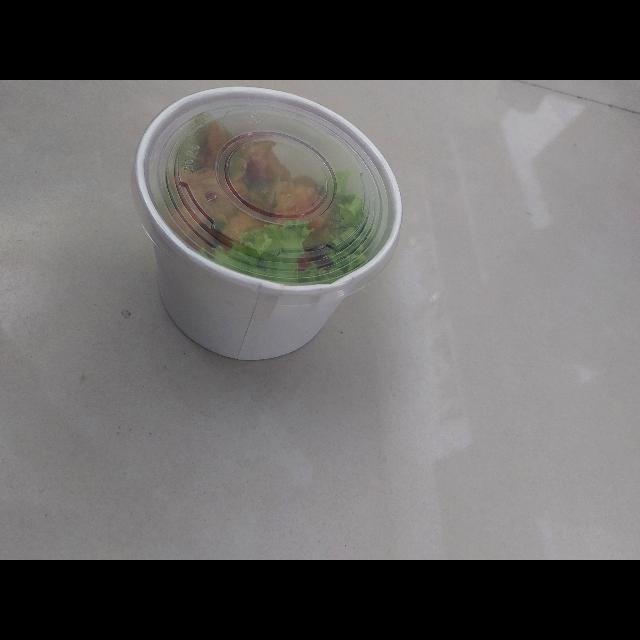rice-bowl: (116, 87, 418, 368)
